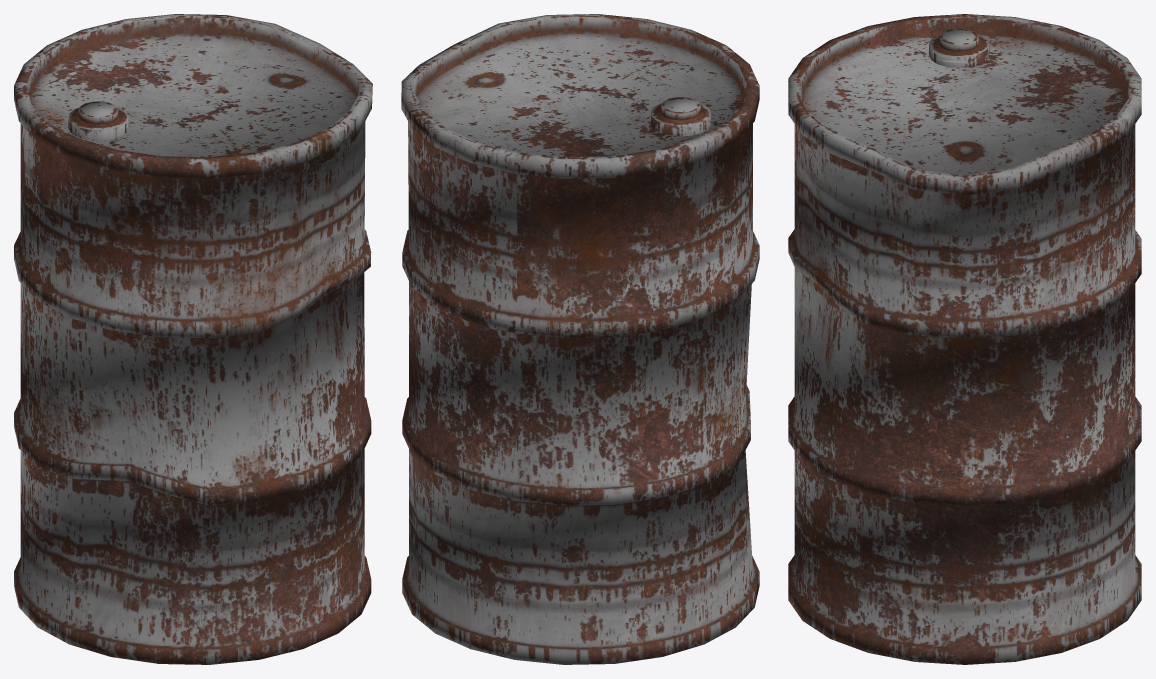
Rendered from SM_barrel_OLD.fbx.
The picture shows the model from 3 angles, left to right: view 1: azimuth 30°, elevation 25°; view 2: azimuth 150°, elevation 25°; view 3: azimuth 270°, elevation 25°; orthographic projection.
Parts seen in each view (by area): view 1: SM_barrel_OLD; view 2: SM_barrel_OLD; view 3: SM_barrel_OLD.
Part boxes in pixels (x1,y1,x2,y2): SM_barrel_OLD: [14, 14, 372, 664]; SM_barrel_OLD: [401, 14, 759, 664]; SM_barrel_OLD: [788, 14, 1141, 664].
Bounding box in the file's own units: 0.5966 × 0.9191 × 0.5783.
